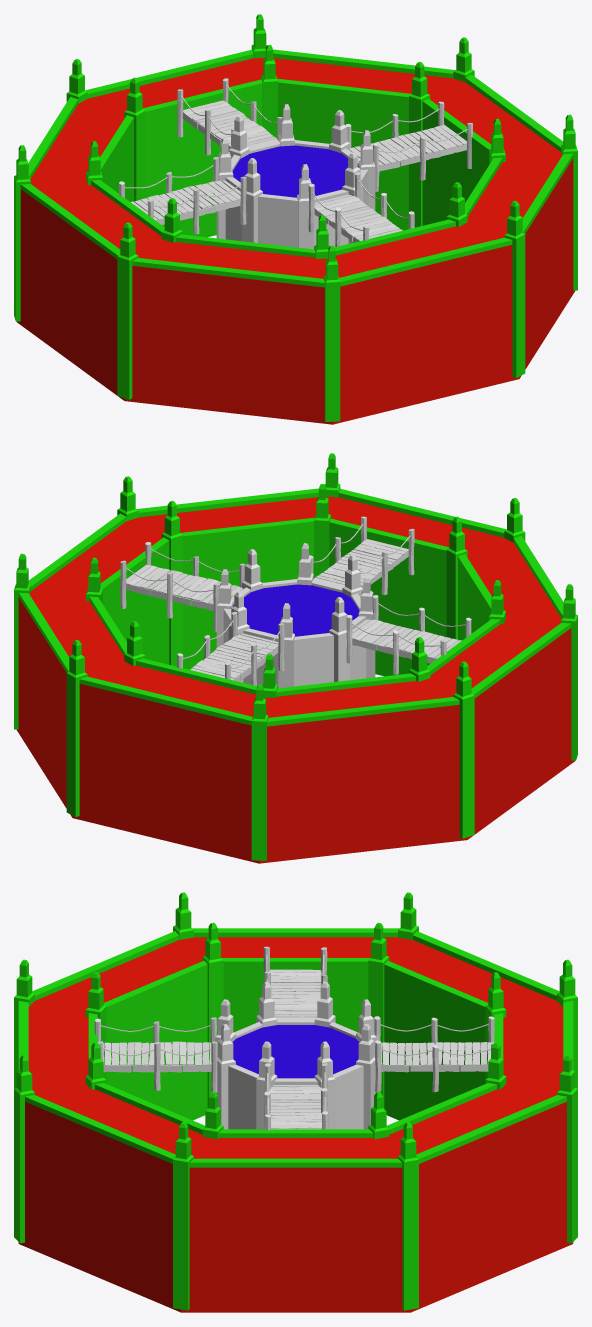
Rendered from Pit.fbx.
The picture shows the model from 3 angles, top to bottom: view 1: azimuth 30°, elevation 25°; view 2: azimuth 150°, elevation 25°; view 3: azimuth 270°, elevation 25°; orthographic projection. The views are drawn at different scales.
Parts seen in each view (by area): view 1: Cylinder, Cube.006, Dock_Long.001, Dock_Long.003, Dock_Long.002, Dock_Long; view 2: Cylinder, Cube.006, Dock_Long.001, Dock_Long.003, Dock_Long, Dock_Long.002; view 3: Cylinder, Cube.006, Dock_Long.002, Dock_Long, Dock_Long.001, Dock_Long.003.
Boxes of the visible parts, box(x1,y1,x2,y2) form: Cylinder: box(14, 14, 577, 424); Cube.006: box(216, 104, 375, 249); Dock_Long.001: box(345, 101, 472, 191); Dock_Long.003: box(119, 157, 246, 234); Dock_Long.002: box(308, 172, 414, 246); Dock_Long: box(177, 78, 282, 155); Cylinder: box(14, 453, 577, 863); Cube.006: box(216, 543, 375, 688); Dock_Long.001: box(120, 542, 245, 631); Dock_Long.003: box(346, 595, 471, 674); Dock_Long: box(177, 611, 284, 685); Dock_Long.002: box(309, 516, 414, 595); Cylinder: box(14, 892, 577, 1312); Cube.006: box(215, 982, 376, 1129); Dock_Long.002: box(94, 1017, 217, 1092); Dock_Long: box(374, 1016, 494, 1092); Dock_Long.001: box(264, 1063, 328, 1130); Dock_Long.003: box(263, 946, 327, 1019).
Size of the model in its own units: 705 by 259 by 705.
